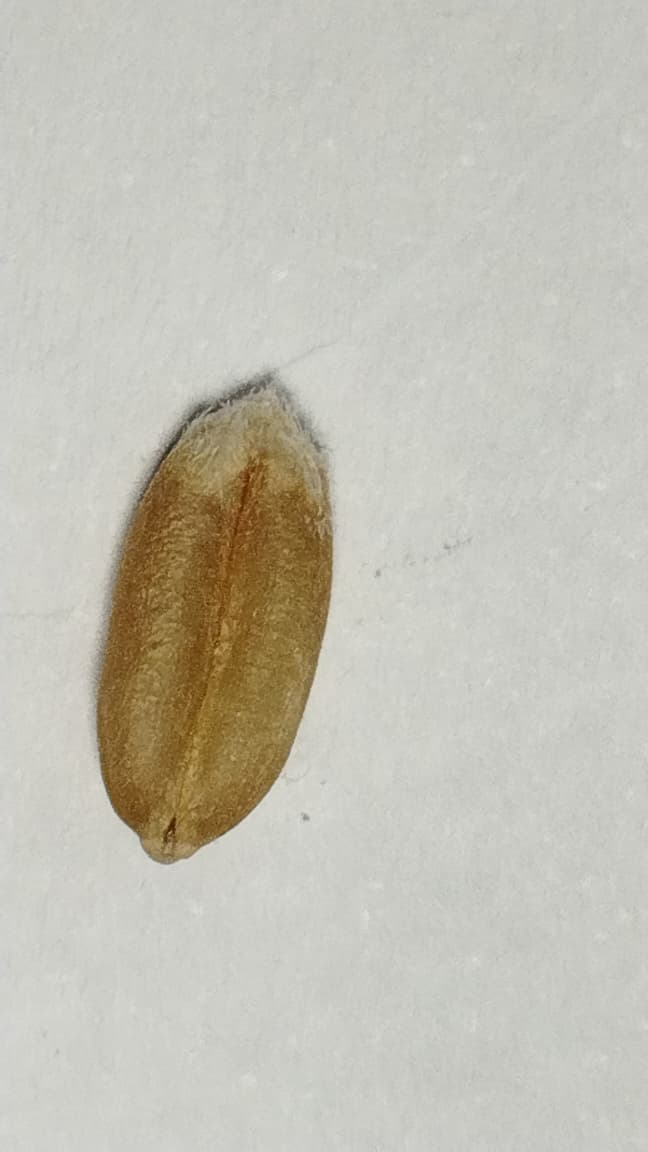healthy: (98, 378, 332, 862)
